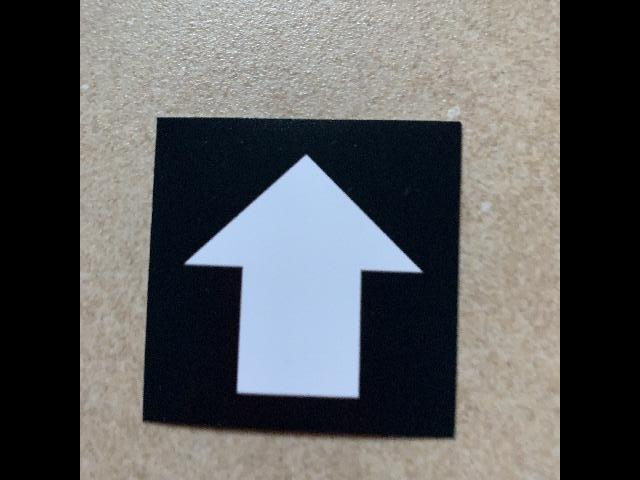up_arrow: (142, 114, 464, 442)
